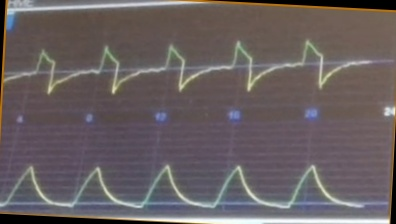Normal Flow: (6, 33, 374, 103)
Normal Volume: (1, 150, 365, 212)
